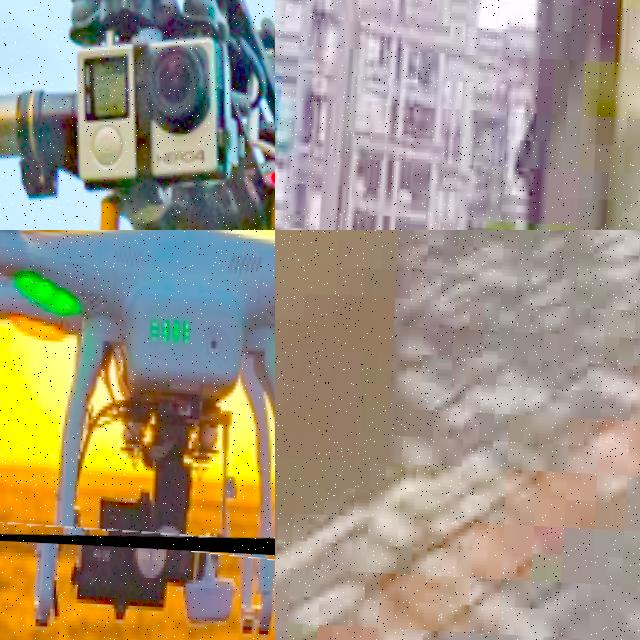drone: (0, 230, 275, 559), (0, 0, 275, 230)
